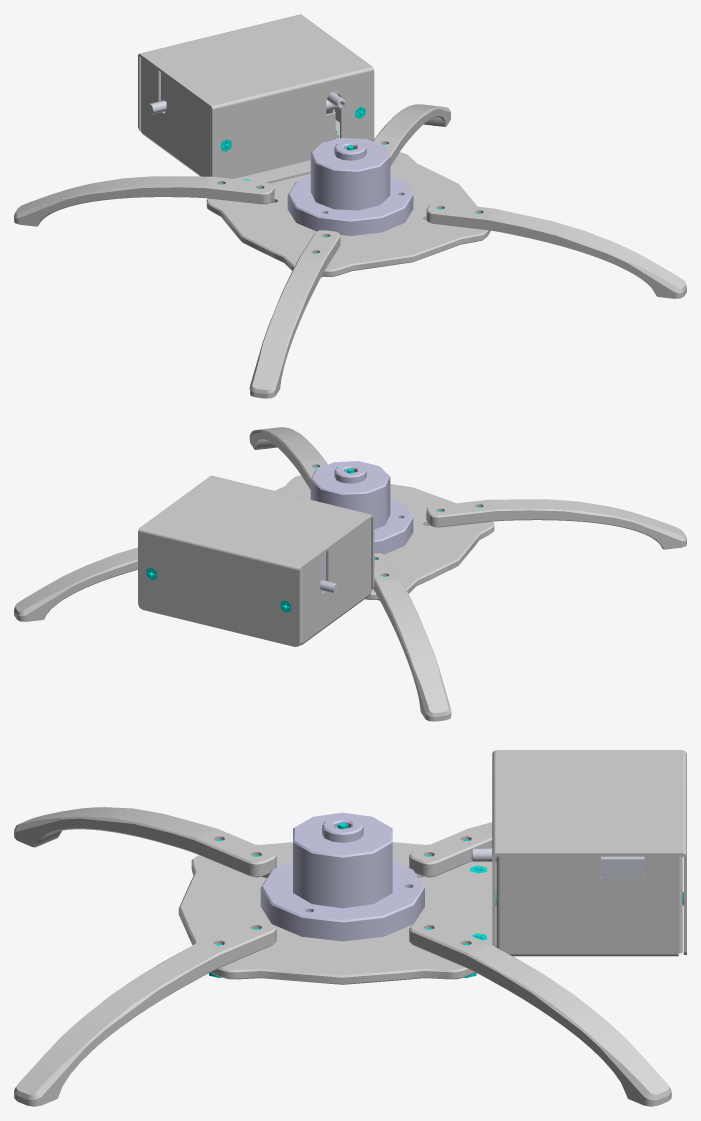
3 renders of one model, top to bottom at view 1: azimuth 30°, elevation 25°; view 2: azimuth 150°, elevation 25°; view 3: azimuth 270°, elevation 25°, orthographic. The views are drawn at different scales.
Visible parts, largest first — view 1: _; view 2: _; view 3: _.
Boxes of the visible parts, x1,y1,x2,y2 form: _: (14,14,686,398); _: (14,427,686,721); _: (14,750,686,1106).
Bounding box in the file's own units: 188 × 193 × 53.12.
